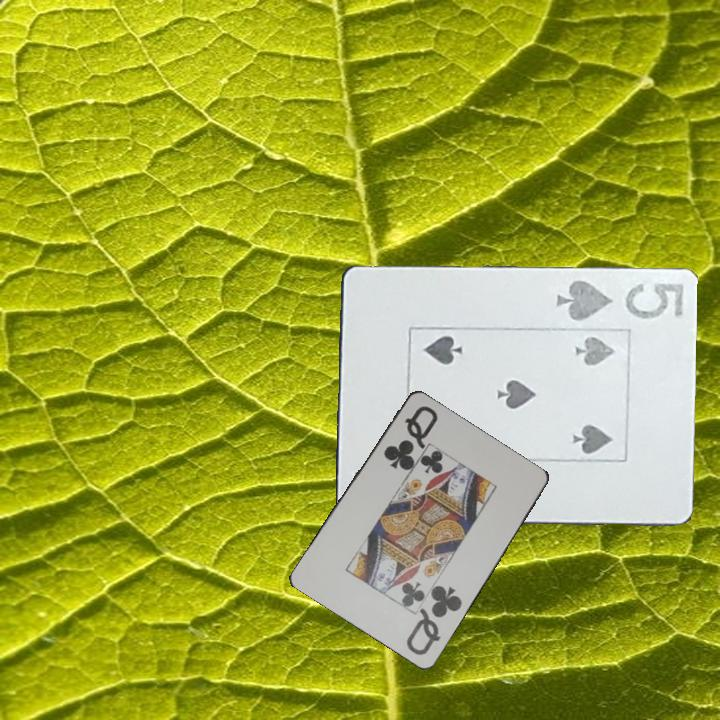5s: (552, 277, 686, 324)
Qc: (402, 581, 465, 659), (380, 402, 441, 472)
